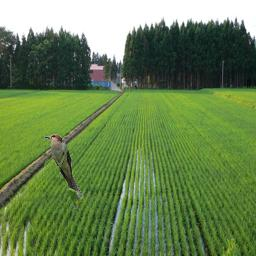Cuckoo: (44, 134, 84, 209)
